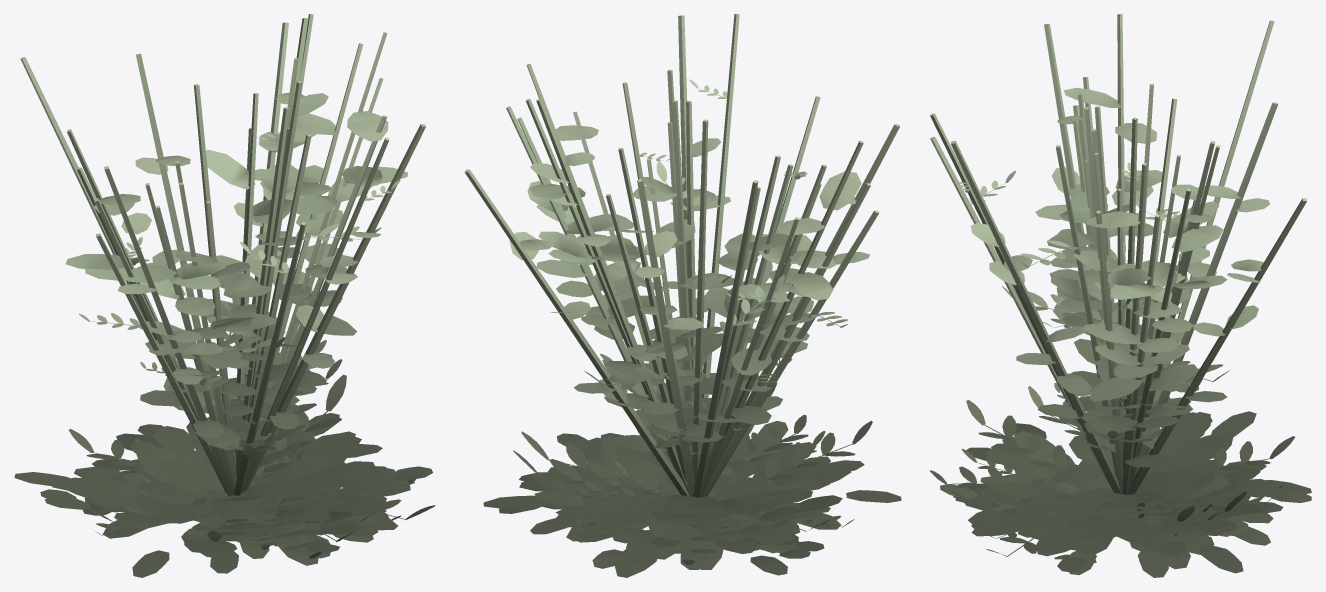
The model's file is herb_ferny.glb.
3 views of the same model, side by side, from view 1: azimuth 30°, elevation 25°; view 2: azimuth 150°, elevation 25°; view 3: azimuth 270°, elevation 25° (orthographic). The views are drawn at different scales.
Parts seen in each view (by area): view 1: v5_foliage, v0_foliage, v4_foliage, v3_foliage, v2_foliage, v1_foliage; view 2: v5_foliage, v4_foliage, v0_foliage, v3_foliage, v2_foliage, v1_foliage; view 3: v5_foliage, v0_foliage, v4_foliage, v3_foliage, v2_foliage, v1_foliage.
Part boxes in pixels (bbox=[...]): v5_foliage: bbox=[51, 14, 396, 565]; v0_foliage: bbox=[59, 32, 410, 558]; v4_foliage: bbox=[14, 18, 433, 577]; v3_foliage: bbox=[68, 81, 435, 558]; v2_foliage: bbox=[20, 57, 401, 549]; v1_foliage: bbox=[77, 58, 400, 550]; v5_foliage: bbox=[506, 99, 863, 559]; v4_foliage: bbox=[464, 15, 901, 575]; v0_foliage: bbox=[517, 63, 851, 577]; v3_foliage: bbox=[513, 69, 872, 564]; v2_foliage: bbox=[556, 96, 879, 561]; v1_foliage: bbox=[570, 14, 870, 529]; v5_foliage: bbox=[953, 14, 1273, 569]; v0_foliage: bbox=[955, 120, 1311, 556]; v4_foliage: bbox=[940, 24, 1311, 577]; v3_foliage: bbox=[930, 84, 1295, 562]; v2_foliage: bbox=[930, 20, 1282, 538]; v1_foliage: bbox=[930, 77, 1269, 517].
Bounding box in the file's own units: 0.8403 × 1 × 0.8268.
